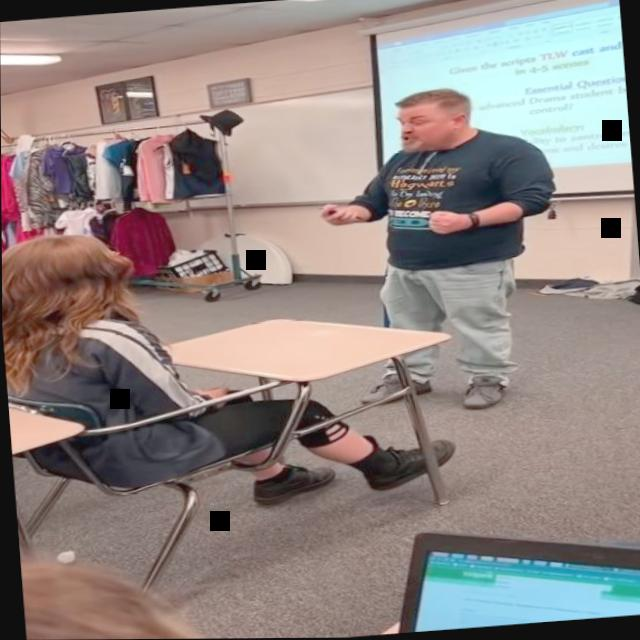NO-Mask: (393, 91, 476, 153)
